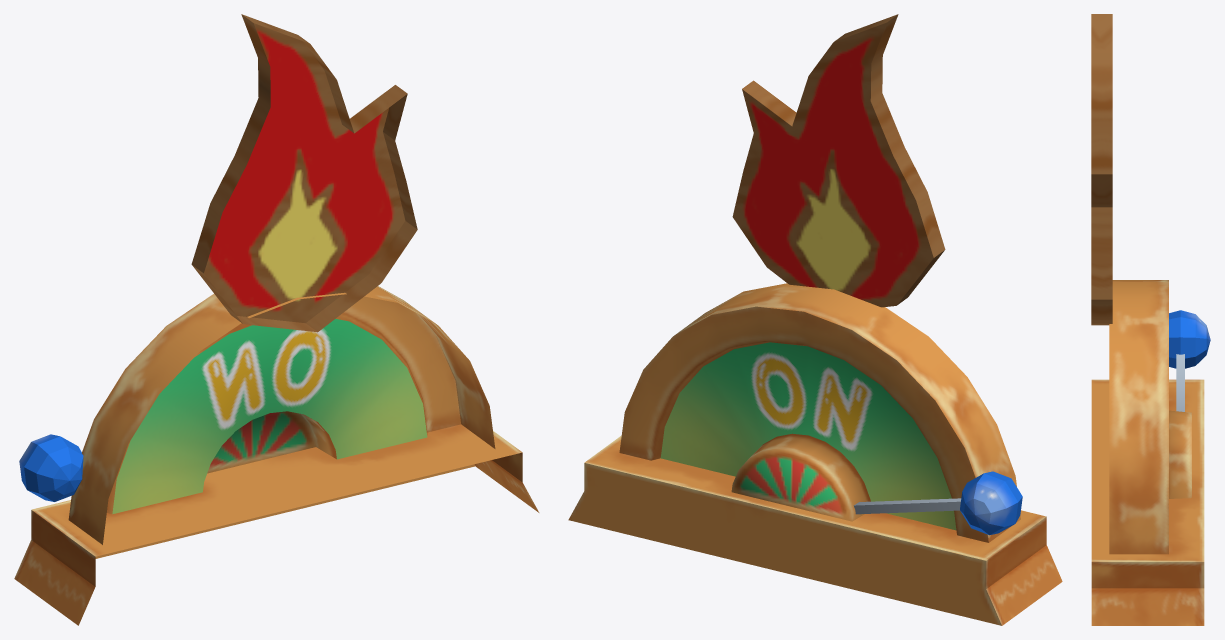
Rendered from Switch_On.fbx.
The picture shows the model from 3 angles, left to right: view 1: azimuth 30°, elevation 25°; view 2: azimuth 150°, elevation 25°; view 3: azimuth 270°, elevation 25°; orthographic projection. The views are drawn at different scales.
Parts seen in each view (by area): view 1: switch_on; view 2: switch_on; view 3: switch_on.
Part boxes in pixels (<box>): switch_on: <box>14,14,539,625</box>; switch_on: <box>568,14,1062,625</box>; switch_on: <box>1091,14,1210,625</box>.
Bounding box in the file's own units: 0.5105 × 0.5883 × 0.13.
1 material, 1 textured.
